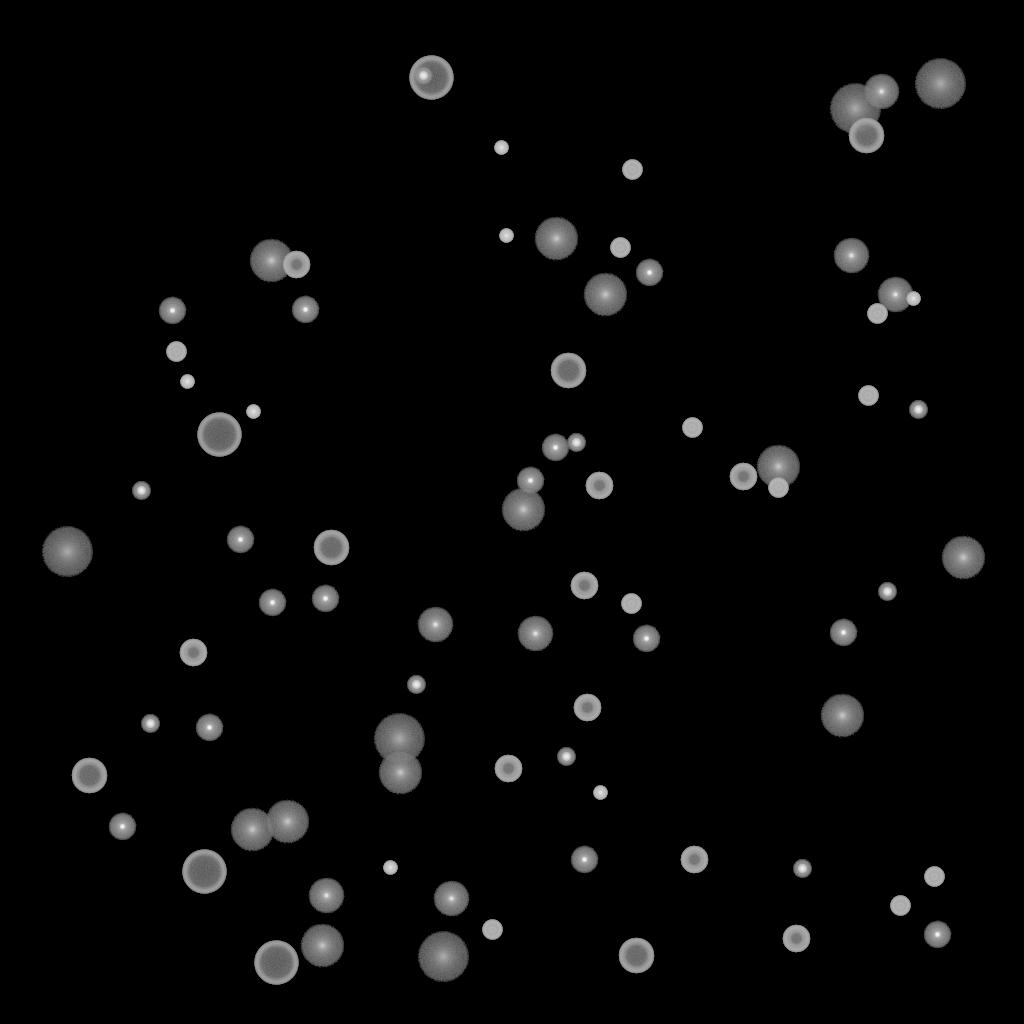depth:-10: (311, 585, 339, 613), (291, 296, 319, 324), (632, 625, 660, 653), (108, 813, 136, 841), (226, 526, 254, 554), (541, 434, 569, 462), (829, 619, 857, 647), (158, 297, 186, 325), (570, 846, 598, 874), (258, 589, 286, 617), (516, 467, 544, 495), (635, 259, 663, 287), (195, 714, 223, 742), (923, 921, 951, 949)
depth:-20: (132, 482, 150, 500), (909, 401, 927, 419), (414, 67, 432, 85), (407, 676, 425, 694), (878, 583, 896, 601), (557, 748, 575, 766), (141, 715, 159, 733), (567, 434, 585, 452), (793, 860, 811, 878)
depth:-30: (494, 141, 508, 155), (593, 786, 607, 800), (499, 229, 513, 243), (180, 375, 194, 389), (383, 861, 397, 875), (246, 405, 260, 419), (906, 292, 920, 306)
depth:-40: (166, 342, 186, 362), (482, 920, 502, 940), (858, 386, 878, 406), (621, 594, 641, 614), (682, 418, 702, 438), (622, 160, 642, 180), (890, 896, 910, 916), (924, 867, 944, 887), (867, 304, 887, 324), (610, 238, 630, 258), (768, 478, 788, 498)
depth:-50: (729, 463, 757, 491), (573, 694, 601, 722), (585, 472, 613, 500), (179, 639, 207, 667), (282, 251, 310, 279), (494, 755, 522, 783), (680, 846, 708, 874), (782, 925, 810, 953), (570, 572, 598, 600)
depth:-60: (618, 938, 654, 974), (313, 530, 349, 566), (71, 758, 107, 794), (848, 118, 884, 154), (550, 353, 586, 389)
depth:-70: (409, 56, 453, 100), (197, 413, 241, 457), (254, 941, 298, 985), (182, 850, 226, 894)
depth:0: (308, 878, 344, 914), (833, 238, 869, 274), (417, 607, 453, 643), (433, 881, 469, 917), (863, 74, 899, 110), (877, 277, 913, 313), (517, 616, 553, 652)
depth:10: (941, 536, 985, 580), (756, 445, 800, 489), (501, 488, 545, 532), (230, 808, 274, 852), (300, 924, 344, 968), (378, 751, 422, 795), (583, 273, 627, 317), (820, 694, 864, 738), (265, 800, 309, 844), (249, 239, 293, 283), (534, 217, 578, 261)
depth:20: (41, 527, 93, 577), (914, 59, 966, 109), (417, 932, 469, 982), (373, 714, 425, 764), (829, 84, 881, 134)
